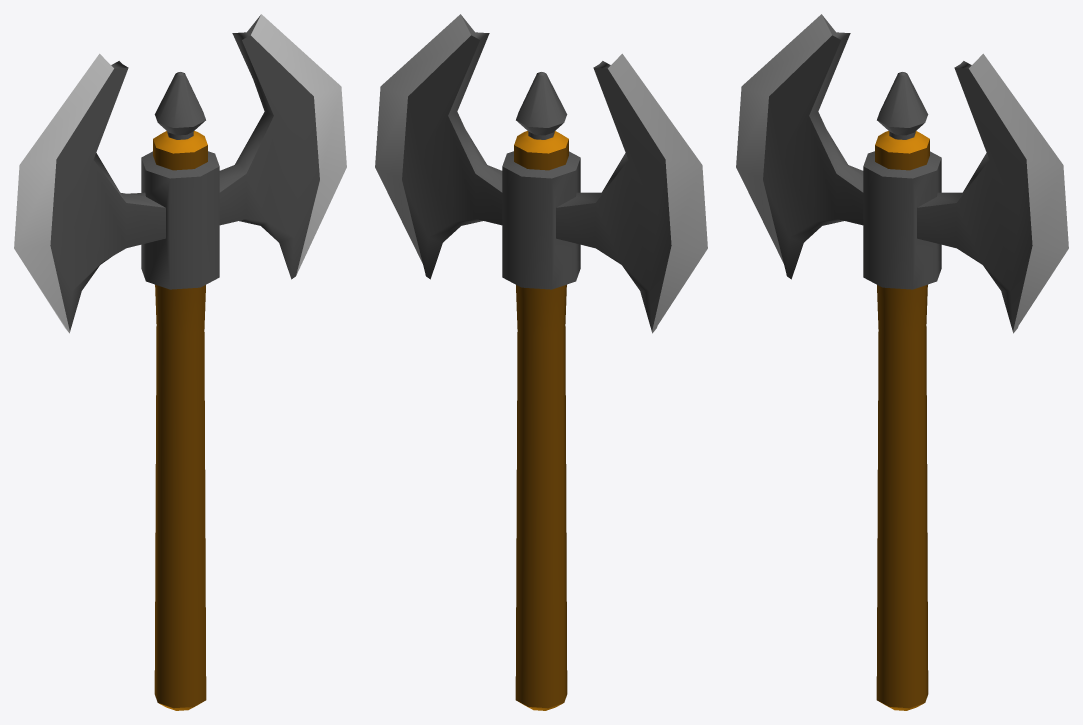
File: axe_weapon_001.fbx
3 views of the same model, side by side, from view 1: azimuth 30°, elevation 25°; view 2: azimuth 150°, elevation 25°; view 3: azimuth 330°, elevation 25° (orthographic).
Visible parts, largest first — view 1: pCube4; view 2: pCube4; view 3: pCube4.
Boxes of the visible parts, x1,y1,x2,y2 form: pCube4: (14,14,346,710); pCube4: (375,14,707,710); pCube4: (736,14,1068,710).
Bounding box in the file's own units: 58.75 × 114 × 12.21.
